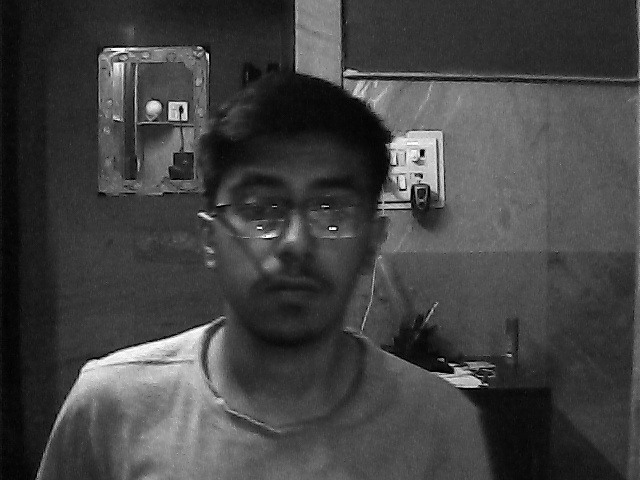nomask: (208, 139, 365, 347)
